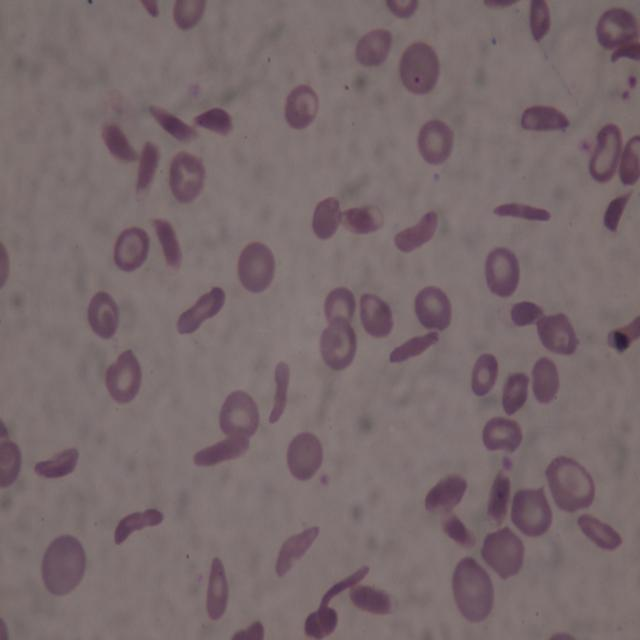Crystal: (174, 285, 224, 336), (191, 430, 249, 469), (392, 208, 439, 256), (386, 328, 440, 367), (576, 514, 625, 552), (346, 581, 395, 618), (150, 218, 182, 270), (204, 554, 227, 619), (605, 312, 640, 353)
Normal: (509, 483, 552, 536), (218, 389, 261, 440), (416, 118, 456, 166), (485, 246, 520, 298), (413, 286, 452, 330), (324, 286, 356, 327)
Others: (451, 554, 495, 626), (546, 453, 594, 514), (41, 534, 86, 596), (478, 524, 526, 582), (398, 40, 442, 94), (105, 347, 143, 404), (588, 121, 623, 182), (320, 315, 358, 370), (168, 149, 205, 202), (236, 241, 275, 290), (597, 4, 640, 48), (285, 431, 323, 480), (535, 311, 578, 354), (86, 290, 122, 340), (423, 474, 468, 513), (439, 509, 478, 552), (358, 290, 394, 336), (285, 84, 320, 130), (354, 27, 393, 66), (338, 203, 384, 236), (483, 416, 525, 452), (486, 468, 512, 526), (134, 139, 161, 193), (530, 356, 560, 404), (470, 351, 500, 398), (502, 372, 532, 417), (303, 606, 339, 640), (311, 196, 339, 239), (618, 133, 638, 186), (173, 0, 208, 30), (0, 438, 21, 488), (528, 2, 552, 42), (511, 300, 544, 327), (230, 619, 266, 640), (383, 0, 420, 20), (0, 238, 11, 290), (0, 420, 15, 440), (0, 617, 10, 640)
Sickle: (314, 563, 372, 626), (274, 525, 322, 581), (112, 507, 164, 548), (148, 103, 196, 143), (103, 122, 143, 165), (265, 359, 291, 424), (31, 446, 80, 480), (518, 104, 571, 132), (603, 188, 633, 237), (189, 106, 233, 136), (493, 202, 552, 224), (610, 42, 640, 67), (138, 0, 160, 20)
Target: (112, 224, 148, 274)
